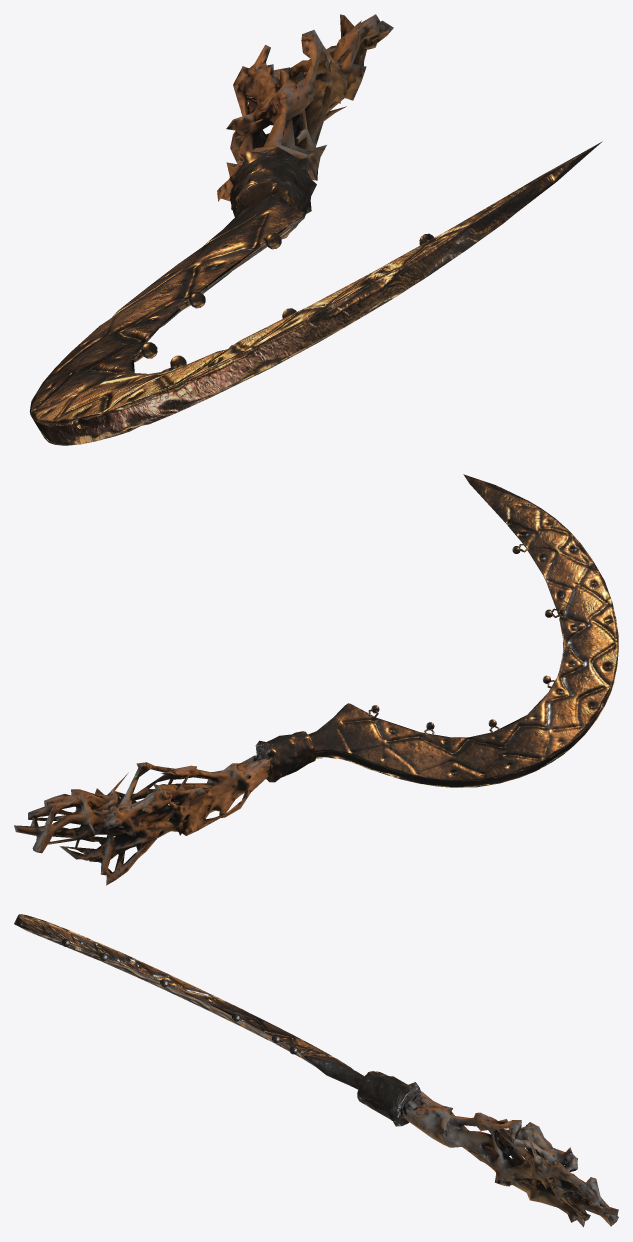
File: Sickle.gltf
3 views of the same model, one above another, from view 1: azimuth 30°, elevation 25°; view 2: azimuth 150°, elevation 25°; view 3: azimuth 270°, elevation 25° (orthographic). The views are drawn at different scales.
Visible parts, largest first — view 1: Sickle; view 2: Sickle; view 3: Sickle.
Boxes of the visible parts, x1=… form: Sickle: x1=29, y1=14, x2=602, y2=445; Sickle: x1=14, y1=474, x2=618, y2=885; Sickle: x1=14, y1=914, x2=618, y2=1227.
Size of the model in its own units: 0.5952 by 0.3693 by 0.8099.
Materials: 1 (1 with a texture image).
